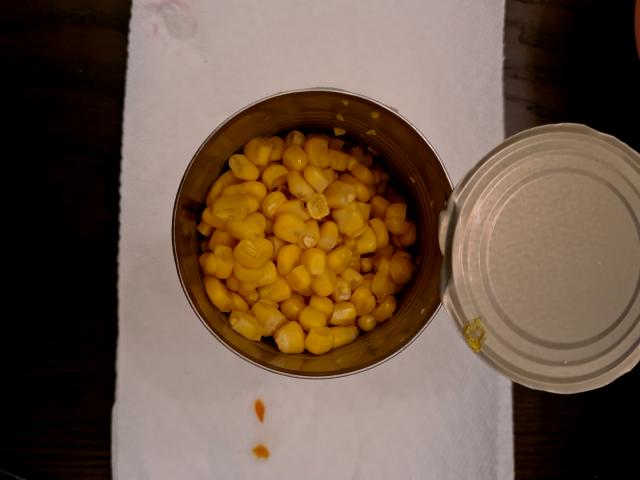kichen waste: (202, 134, 416, 354)
